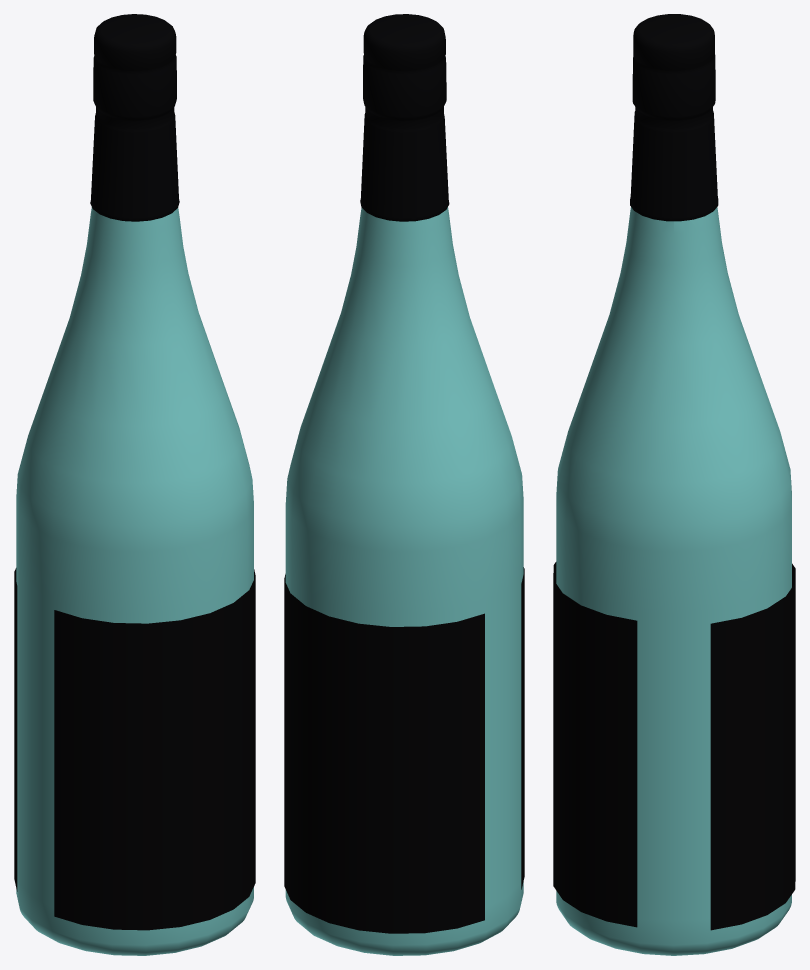
The model's file is bottle.obj.
The picture shows the model from 3 angles, left to right: view 1: azimuth 30°, elevation 25°; view 2: azimuth 150°, elevation 25°; view 3: azimuth 270°, elevation 25°; orthographic projection.
Parts seen in each view (by area): view 1: bottle-glass_Plane.013, bottle_sticker_front_Plane.000, bottle-bouchon_Plane.009, bottle_sticker_rear_Plane.002; view 2: bottle-glass_Plane.013, bottle_sticker_rear_Plane.002, bottle-bouchon_Plane.009, bottle_sticker_front_Plane.000; view 3: bottle-glass_Plane.013, bottle_sticker_rear_Plane.002, bottle_sticker_front_Plane.000, bottle-bouchon_Plane.009.
Part boxes in pixels (x1,y1,x2,y2): bottle-glass_Plane.013: [16, 207, 253, 955]; bottle_sticker_front_Plane.000: [54, 569, 255, 930]; bottle-bouchon_Plane.009: [90, 14, 179, 221]; bottle_sticker_rear_Plane.002: [14, 568, 17, 891]; bottle-glass_Plane.013: [285, 207, 523, 955]; bottle_sticker_rear_Plane.002: [284, 574, 484, 933]; bottle-bouchon_Plane.009: [360, 14, 449, 221]; bottle_sticker_front_Plane.000: [521, 567, 524, 889]; bottle-glass_Plane.013: [556, 207, 791, 955]; bottle_sticker_rear_Plane.002: [710, 563, 795, 930]; bottle_sticker_front_Plane.000: [553, 562, 637, 927]; bottle-bouchon_Plane.009: [630, 14, 718, 221].
Bounding box in the file's own units: 10.52 × 43.09 × 10.69.
